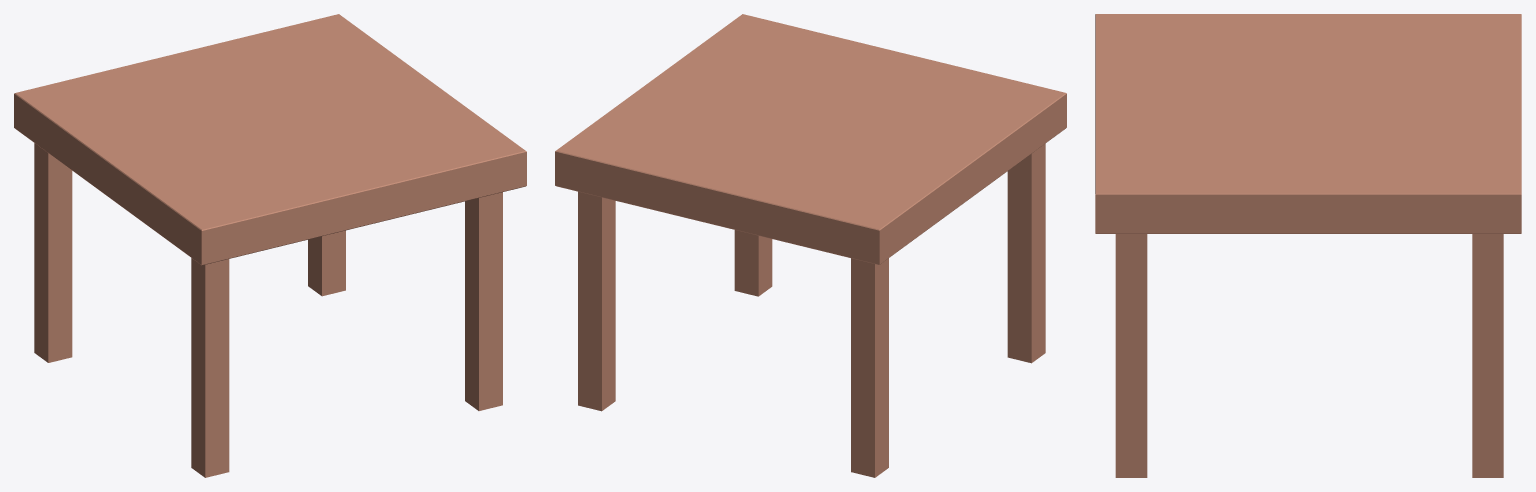
Rendered from pöytä.fbx.
3 renders of one model, left to right at view 1: azimuth 30°, elevation 25°; view 2: azimuth 150°, elevation 25°; view 3: azimuth 270°, elevation 25°, orthographic. The views are drawn at different scales.
Visible parts, largest first — view 1: Pöytä; view 2: Pöytä; view 3: Pöytä.
Boxes of the visible parts, x1,y1,x2,y2 form: Pöytä: (14, 14, 526, 477); Pöytä: (555, 14, 1066, 477); Pöytä: (1095, 14, 1521, 477).
Size of the model in its own units: 111 by 83.91 by 111.
